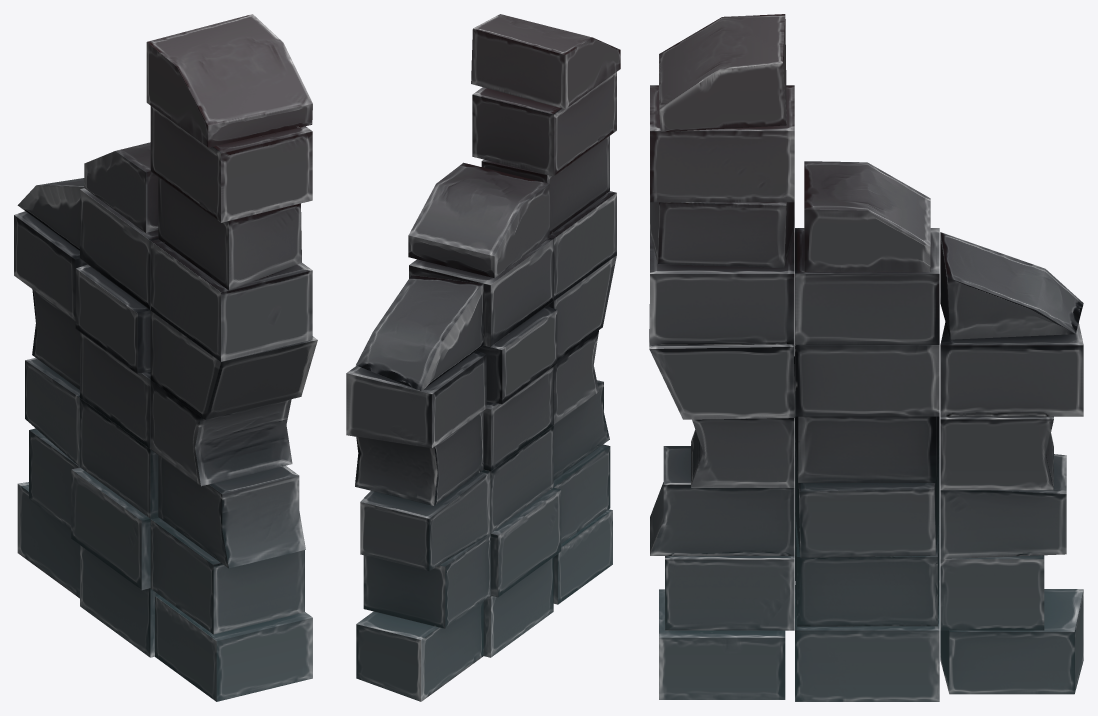
The model's file is StoneWall04.fbx.
3 views of the same model, side by side, from view 1: azimuth 30°, elevation 25°; view 2: azimuth 150°, elevation 25°; view 3: azimuth 270°, elevation 25° (orthographic). The views are drawn at different scales.
Parts seen in each view (by area): view 1: StoneWall04; view 2: StoneWall04; view 3: StoneWall04.
Part boxes in pixels (bbox=[...]): StoneWall04: bbox=[14, 14, 317, 701]; StoneWall04: bbox=[346, 14, 620, 701]; StoneWall04: bbox=[649, 14, 1083, 701].
Bounding box in the file's own units: 57.39 × 326 × 200.
